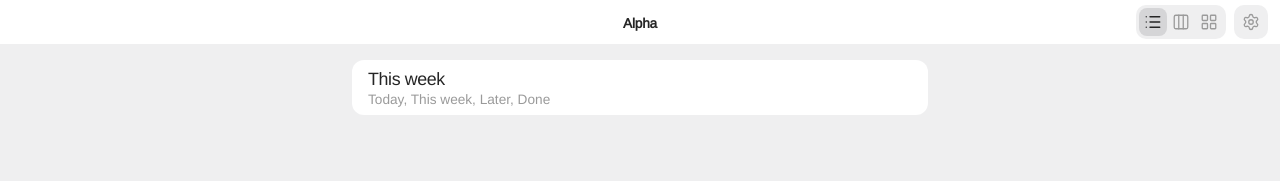
KanbanPage › lets you set a client from project settings
The image size is (1280, 181).
Click the button named "Project settings" at (1251, 22), box 1237,8 -> 1265,36
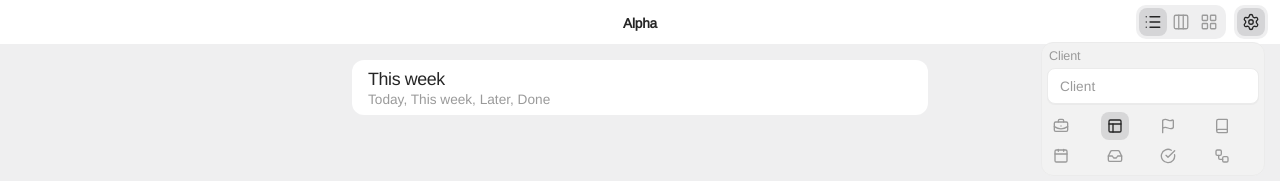
Expected: the field labelled "Client" is shown, 1047,68 -> 1259,104
